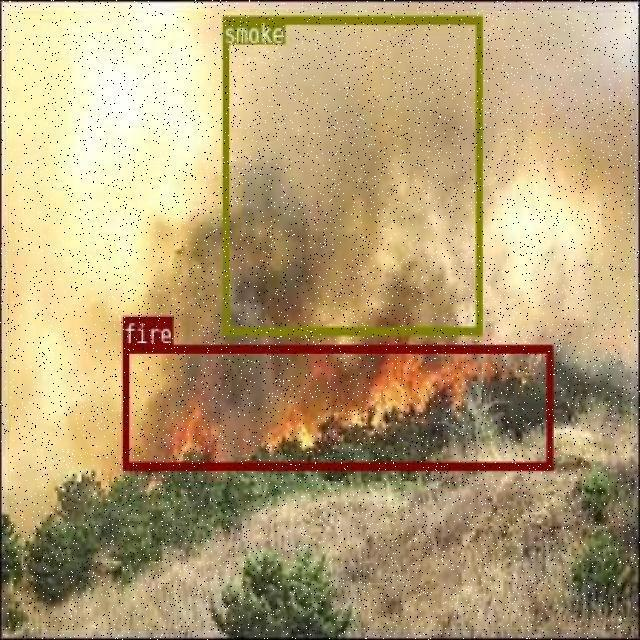Smoke: (221, 0, 481, 269)
